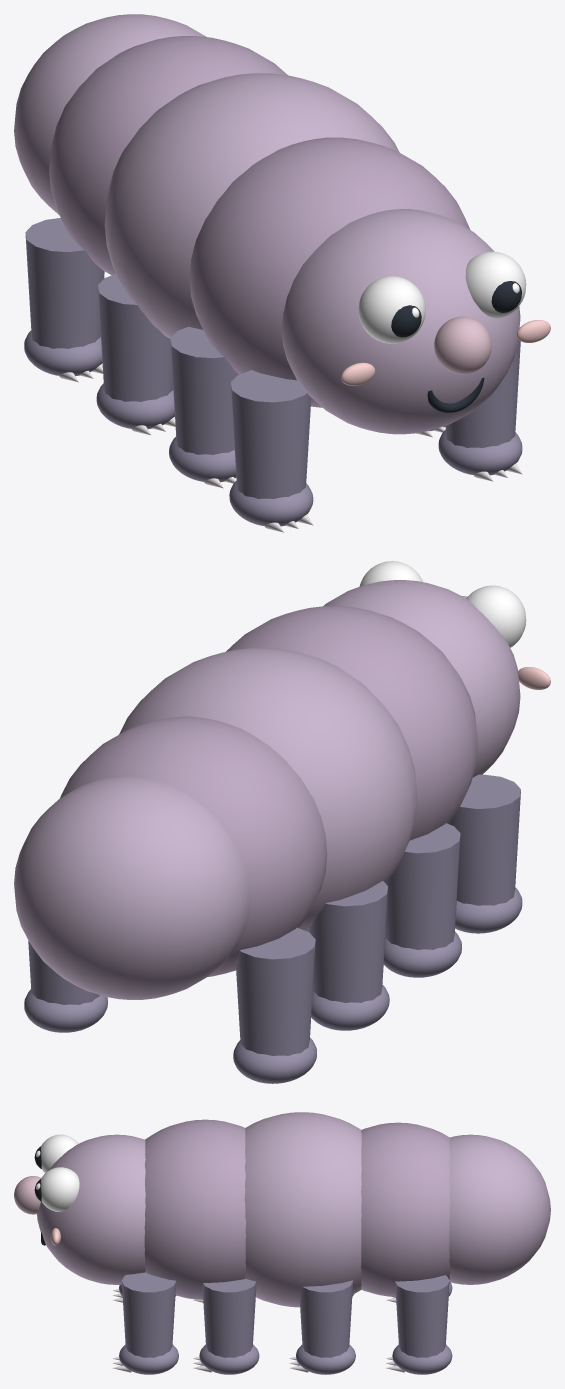
The model's file is bumble.glb.
The picture shows the model from 3 angles, top to bottom: view 1: azimuth 30°, elevation 25°; view 2: azimuth 150°, elevation 25°; view 3: azimuth 270°, elevation 25°; orthographic projection. The views are drawn at different scales.
Parts seen in each view (by area): view 1: Bumble, object 2, object 5, object 3, object 6; view 2: Bumble, object 2, object 5; view 3: Bumble, object 5, object 2.
Boxes of the visible parts, x1=… form: Bumble: x1=14, y1=14, x2=550, y2=532; object 2: x1=358, y1=276, x2=425, y2=343; object 5: x1=465, y1=251, x2=526, y2=318; object 3: x1=391, y1=305, x2=421, y2=337; object 6: x1=491, y1=281, x2=521, y2=312; Bumble: x1=14, y1=580, x2=550, y2=1083; object 2: x1=466, y1=585, x2=526, y2=647; object 5: x1=359, y1=561, x2=422, y2=586; Bumble: x1=14, y1=1112, x2=550, y2=1374; object 5: x1=41, y1=1167, x2=79, y2=1211; object 2: x1=41, y1=1134, x2=78, y2=1172.
Bounding box in the file's own units: 0.7921 × 0.8689 × 1.97.
